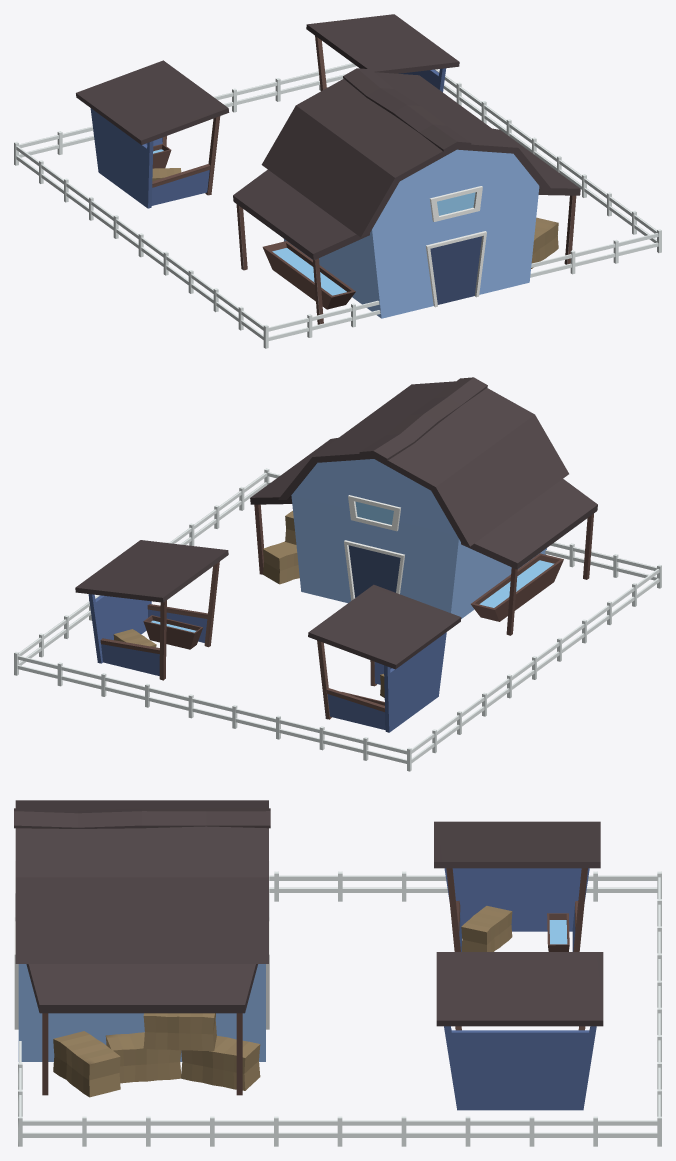
The model's file is cowshed.fbx.
3 renders of one model, top to bottom at view 1: azimuth 30°, elevation 25°; view 2: azimuth 150°, elevation 25°; view 3: azimuth 270°, elevation 25°, orthographic. The views are drawn at different scales.
Parts seen in each view (by area): view 1: cowshed; view 2: cowshed; view 3: cowshed.
Part boxes in pixels (<box>): cowshed: <box>14,14,661,348</box>; cowshed: <box>14,377,661,771</box>; cowshed: <box>14,800,661,1146</box>.
Size of the model in its own units: 1323 by 518 by 1468.
